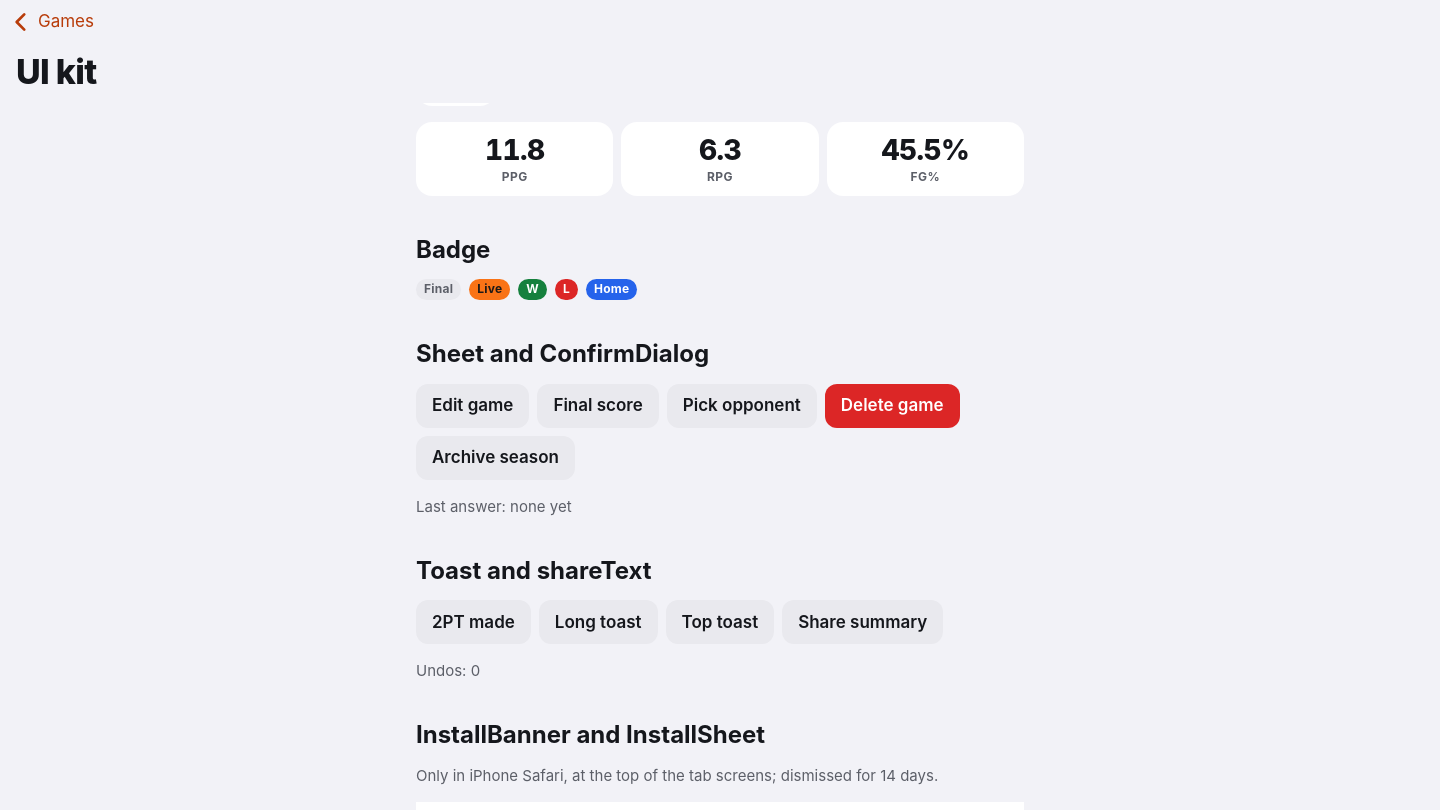
Test: DevUiScreen › asks before deleting and reports the answer
(page scrolled)
Expected: the heading "UI kit" is shown, [16,52,97,91]
Step 1. Click the button "Delete game" → x=892, y=406, box [825,384,960,428]
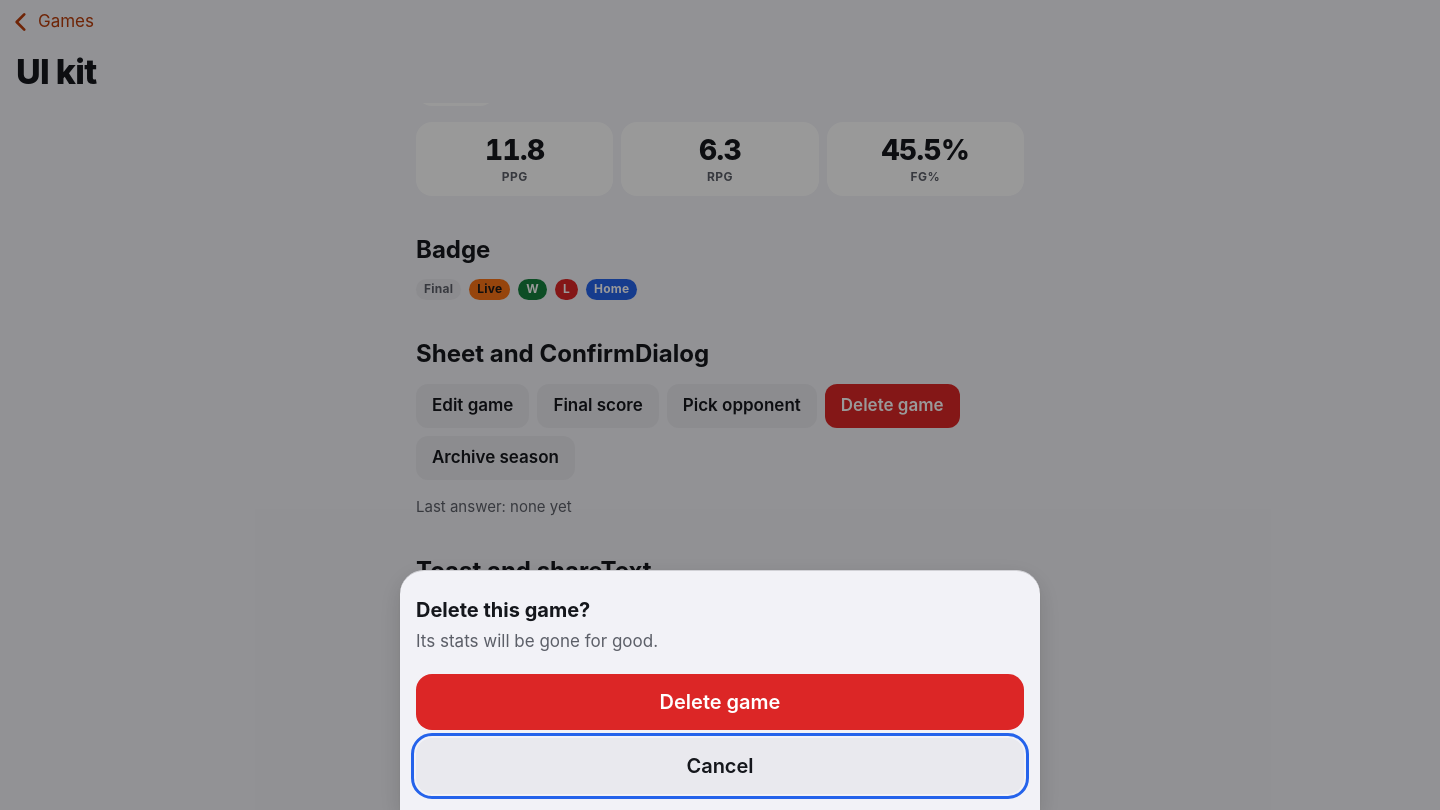
Step 2. Click the button "Delete game" → x=720, y=702, box [416,674,1024,730]
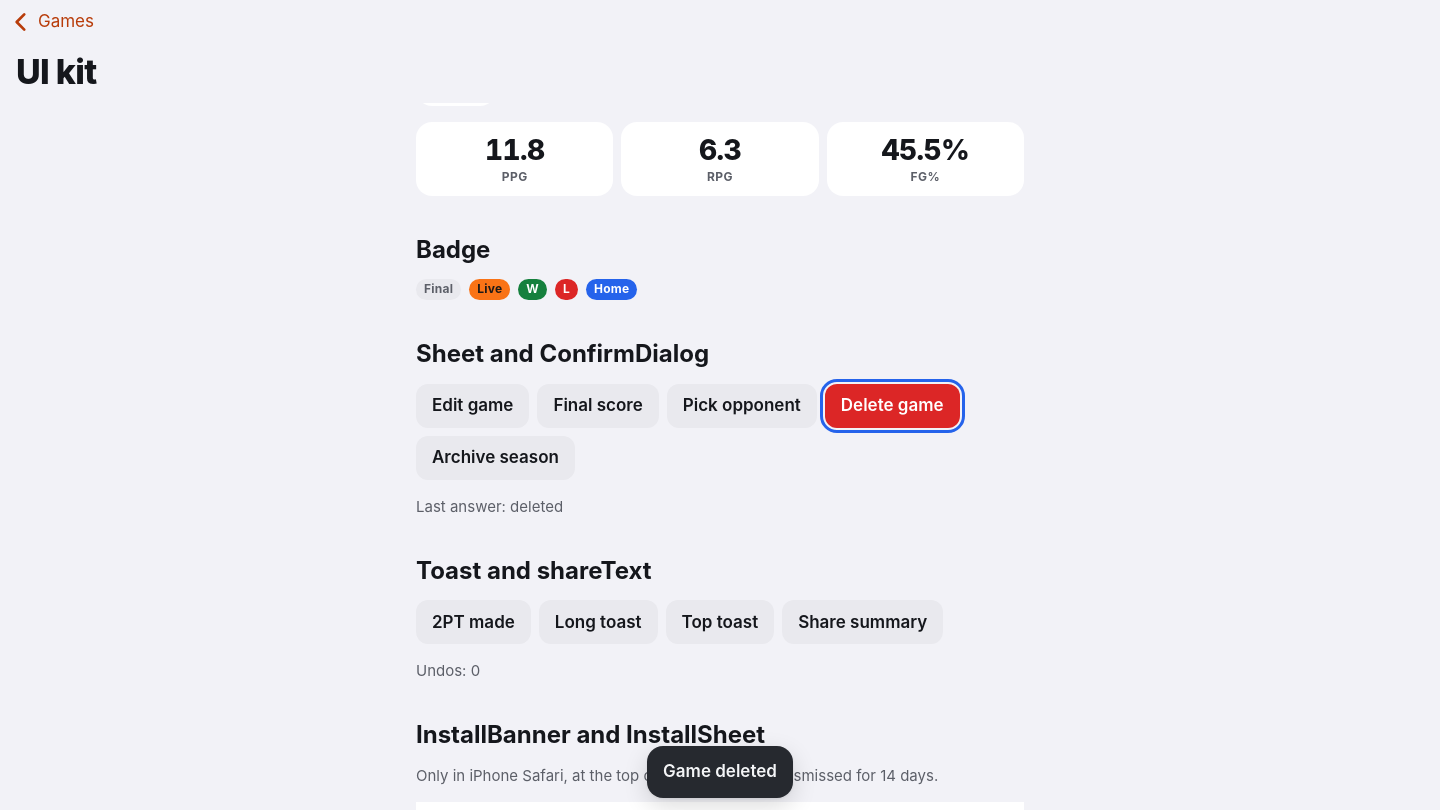
Now the text "Last answer: deleted" is shown, box [416,497,563,516]
Now the message named "Notifications" reads "Game deleted", box [663,761,777,781]
